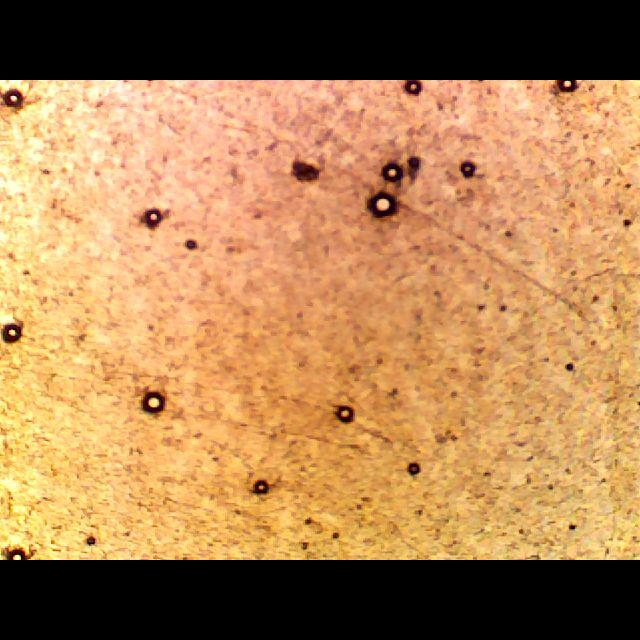Fragment: (282, 155, 324, 191)
microbeads: (361, 189, 402, 221)
